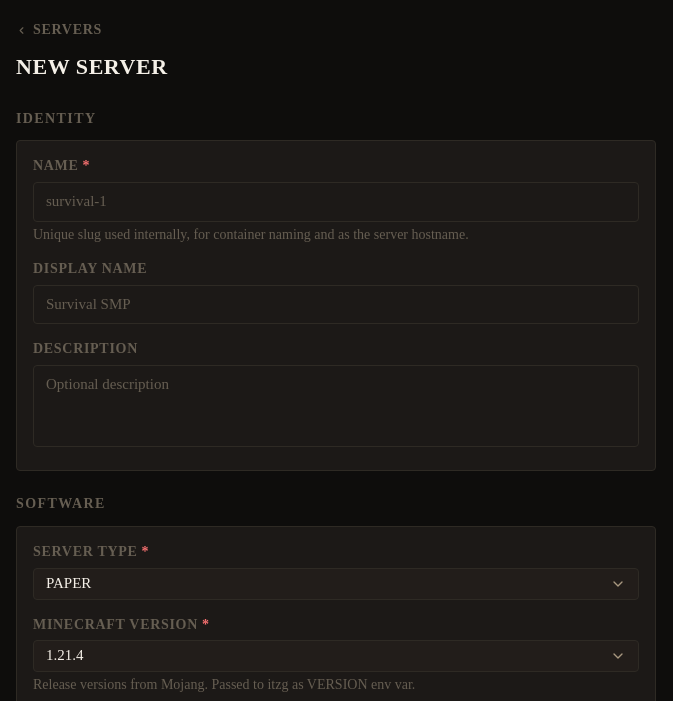
it: NewServerPage › shows error from API
In the field with placeholder "survival-1": [336, 202] box top-left (33, 182), bottom-right (639, 222), type "test"
(page scrolled)
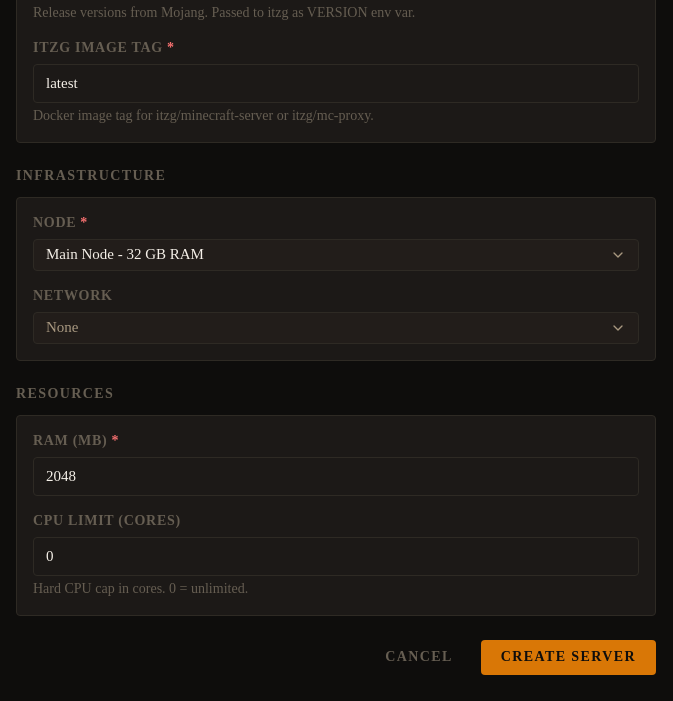
Click the button "Create Server": [568, 657] box top-left (481, 640), bottom-right (656, 675)
(page scrolled)
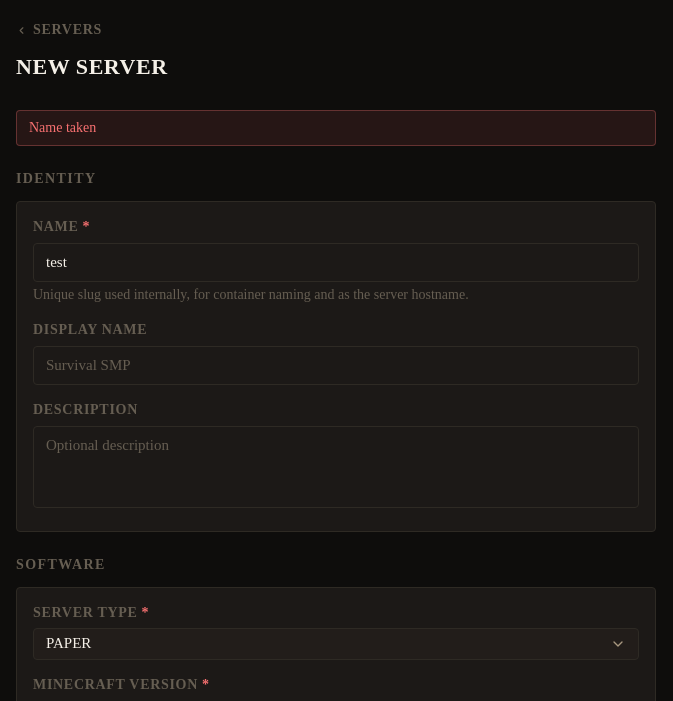
Result: the text "Name taken" is shown at top-left (16, 110), bottom-right (656, 146)
